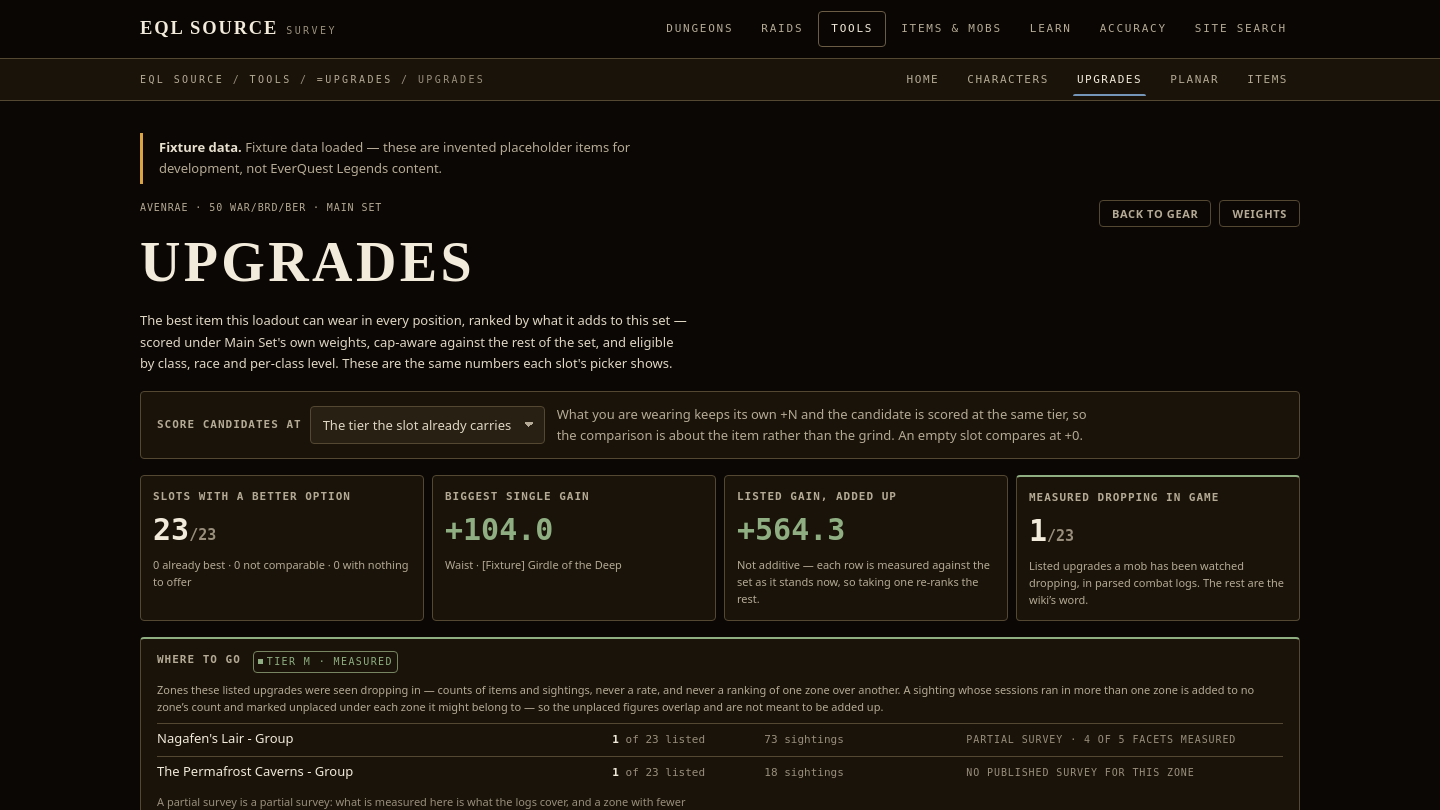
Test case: the upgrades screen › scores every candidate at one tier when asked to
Select "One fixed tier" in the dropdown labelled "Score candidates at" at (427, 425), box [310, 406, 545, 444]
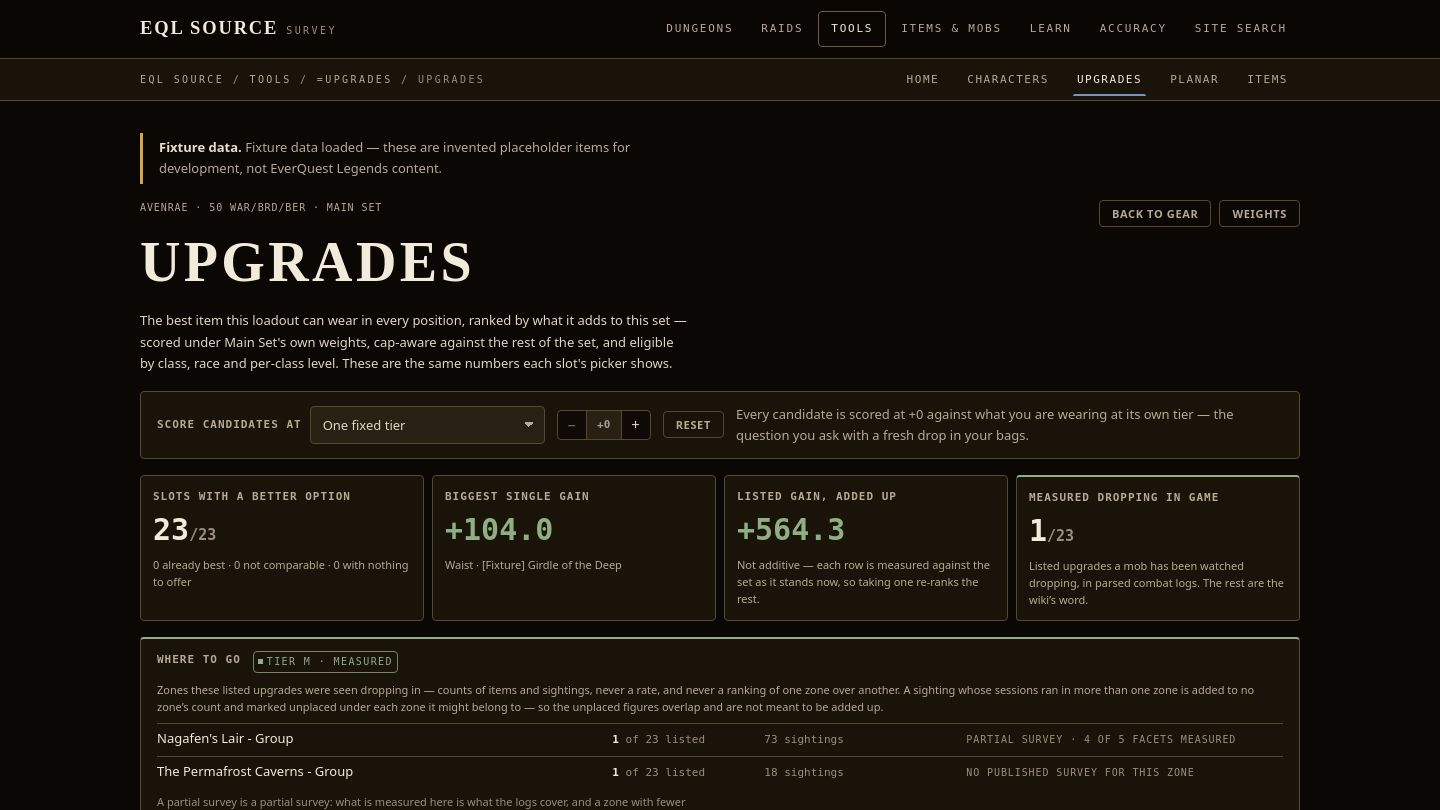
Result: the text "Every candidate is scored at +0" is shown at [736, 404, 1234, 444]
Result: the element with class "stepper" is shown at [557, 410, 651, 440]
